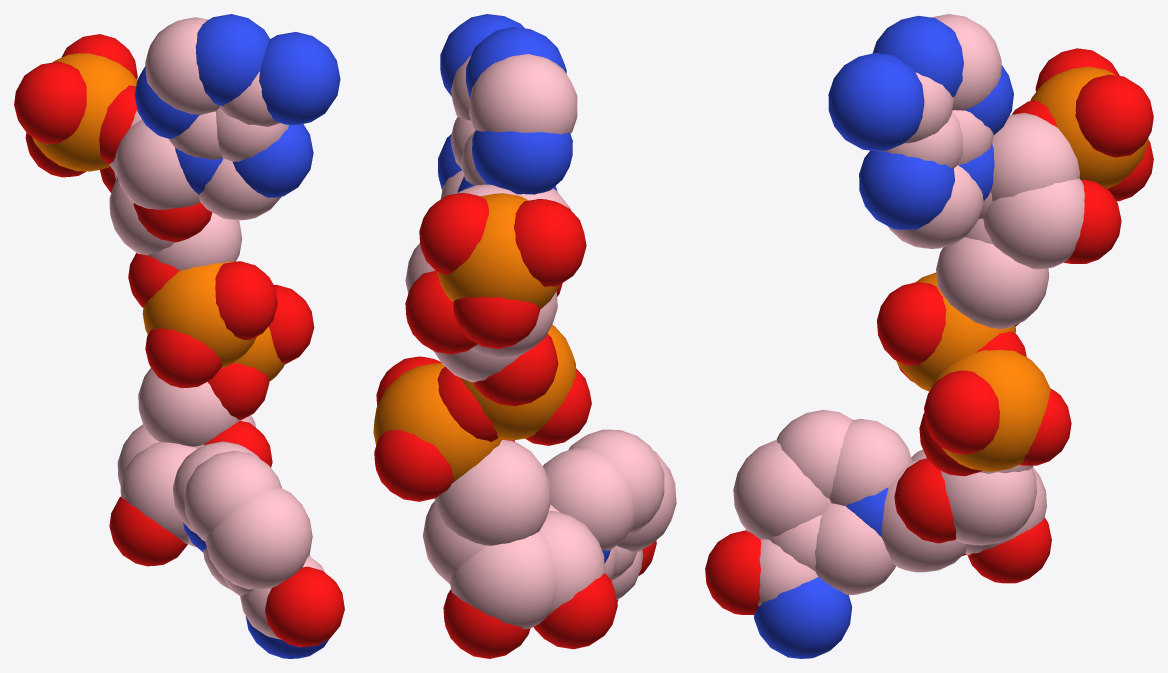
The model's file is NADPH(Folate).dae.
3 renders of one model, left to right at view 1: azimuth 30°, elevation 25°; view 2: azimuth 150°, elevation 25°; view 3: azimuth 270°, elevation 25°, orthographic. The views are drawn at different scales.
Visible parts, largest first — view 1: subnode_41, subnode_17, subnode_0, subnode_42, subnode_18, subnode_27, subnode_11, subnode_39, subnode_44, subnode_45, subnode_19, subnode_32 (+25 smaller); view 2: subnode_27, subnode_19, subnode_30, subnode_23, subnode_44, subnode_43, subnode_20, subnode_45, subnode_25, subnode_46, subnode_42, subnode_32 (+22 smaller); view 3: subnode_17, subnode_4, subnode_23, subnode_7, subnode_41, subnode_14, subnode_40, subnode_28, subnode_9, subnode_36, subnode_24, subnode_46 (+27 smaller).
Part boxes in pixels (x1,y1,x2,y2): subnode_41: (205,487,312,589); subnode_17: (259,32,340,124); subnode_0: (142,261,256,368); subnode_42: (184,450,282,541); subnode_18: (195,14,270,105); subnode_27: (138,368,240,446); subnode_11: (115,119,199,209); subnode_39: (265,566,344,647); subnode_44: (32,53,137,171); subnode_45: (14,61,86,143); subnode_19: (145,17,219,114); subnode_32: (120,442,197,544); subnode_27: (434,440,550,545); subnode_19: (469,54,577,134); subnode_30: (449,531,556,629); subnode_23: (373,363,502,483); subnode_44: (437,193,559,309); subnode_43: (543,447,634,550); subnode_20: (472,130,572,194); subnode_45: (514,199,586,286); subnode_25: (374,429,453,501); subnode_46: (419,193,488,274); subnode_42: (568,429,664,535); subnode_32: (540,511,605,615); subnode_17: (828,53,924,150); subnode_4: (936,237,1048,328); subnode_23: (929,349,1050,471); subnode_7: (983,178,1084,269); subnode_41: (733,440,831,539); subnode_14: (859,150,954,229); subnode_40: (754,577,852,658); subnode_28: (941,468,1036,545); subnode_9: (991,113,1079,201); subnode_36: (815,503,895,594); subnode_24: (924,370,999,454); subnode_46: (1075,74,1153,157).
Size of the model in its own units: 9.44 by 22.95 by 14.82.
